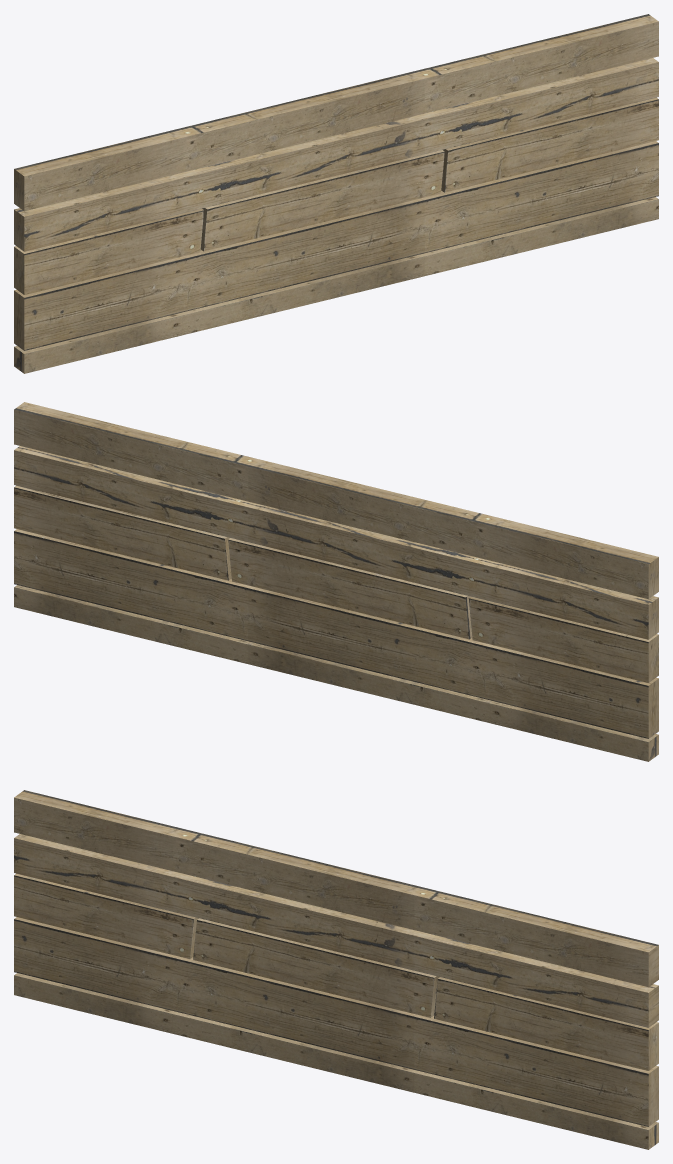
The model's file is planks.fbx.
3 views of the same model, one above another, from view 1: azimuth 30°, elevation 25°; view 2: azimuth 150°, elevation 25°; view 3: azimuth 330°, elevation 25° (orthographic).
Parts seen in each view (by area): view 1: planks; view 2: planks; view 3: planks.
Boxes of the visible parts, x1,y1,x2,y2 form: planks: (14, 14, 658, 373); planks: (14, 402, 658, 761); planks: (14, 790, 658, 1149).
Bounding box in the file's own units: 3.32 × 0.988 × 0.0937.
